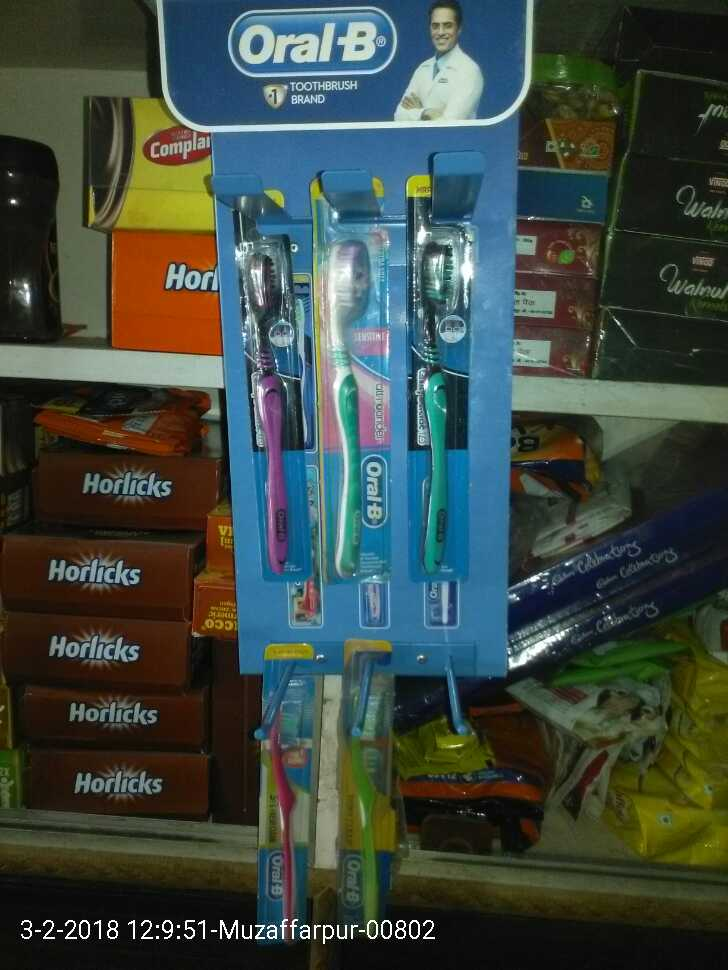oralb: (229, 207, 320, 587), (314, 215, 388, 586), (400, 215, 469, 601)
